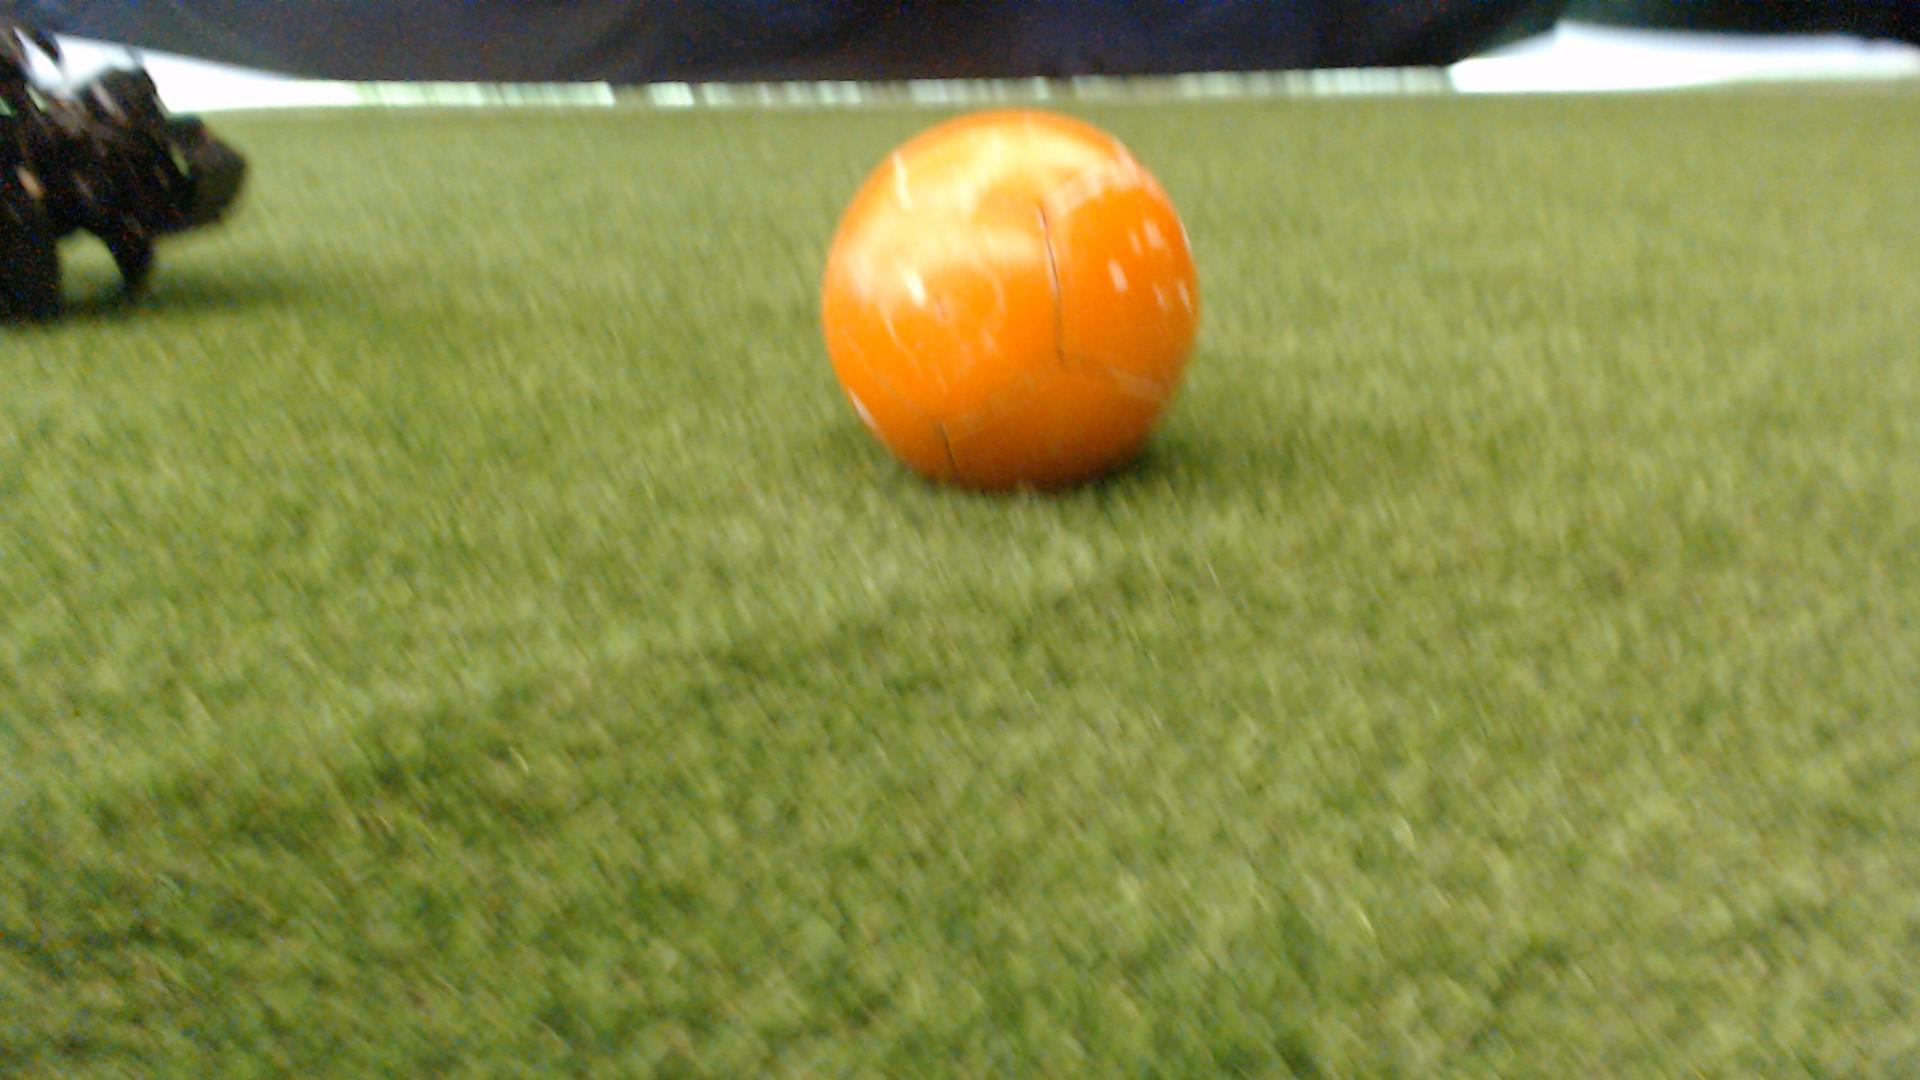bola: (808, 103, 1225, 491)
